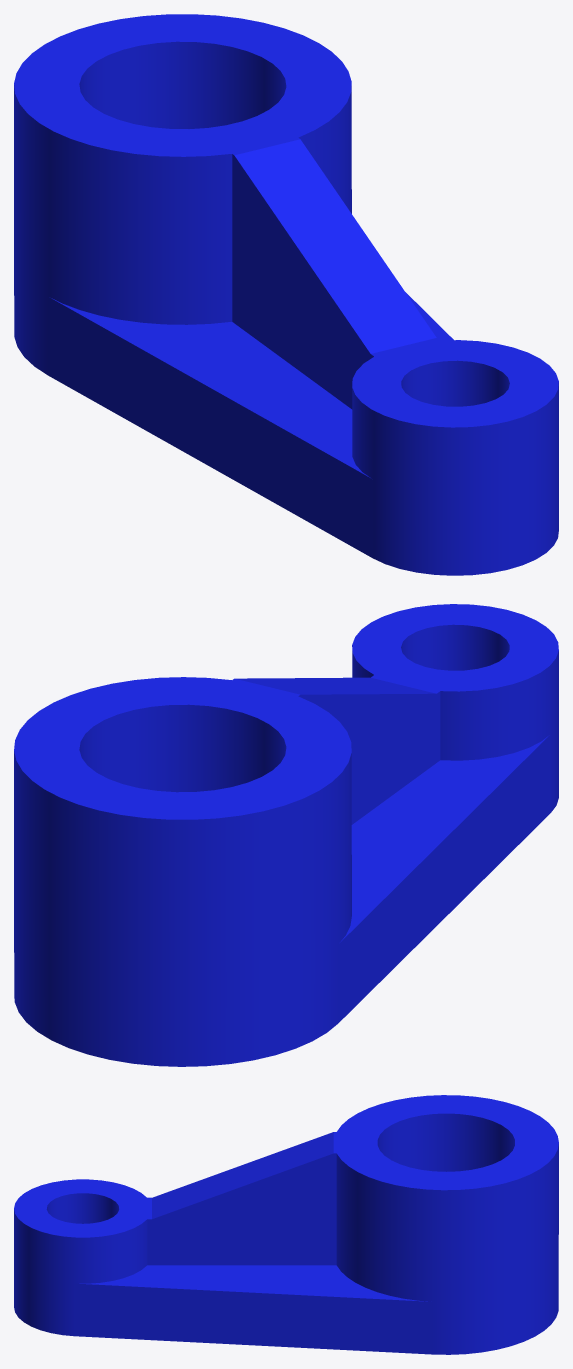
File: asset.glb
3 views of the same model, one above another, from view 1: azimuth 30°, elevation 25°; view 2: azimuth 150°, elevation 25°; view 3: azimuth 270°, elevation 25° (orthographic). The views are drawn at different scales.
Visible parts, largest first — view 1: Solid1; view 2: Solid1; view 3: Solid1.
Boxes of the visible parts, x1,y1,x2,y2 form: Solid1: (14, 14, 558, 575); Solid1: (14, 604, 558, 1066); Solid1: (14, 1095, 558, 1354).
Bounding box in the file's own units: 0.062 × 0.05 × 0.15.
